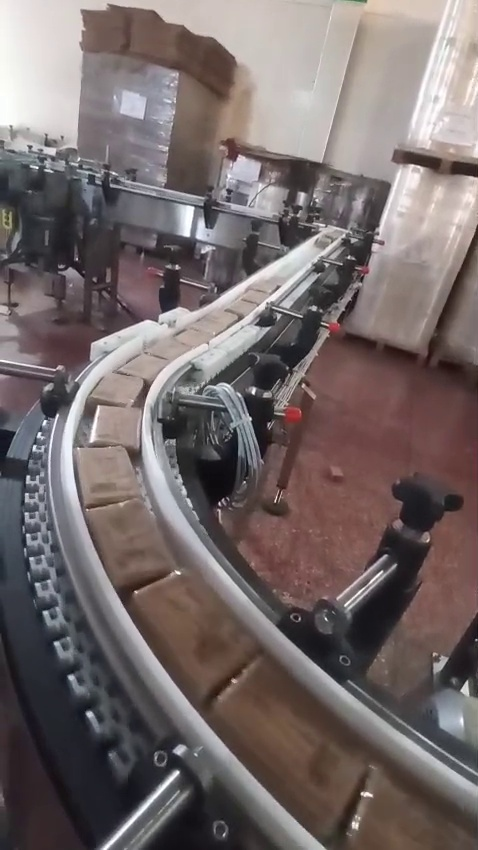savon: (149, 584, 477, 850), (177, 65, 254, 182), (90, 470, 140, 536), (368, 648, 422, 684), (451, 238, 478, 288), (133, 592, 154, 630), (164, 36, 184, 58), (0, 212, 16, 236), (362, 0, 378, 24), (258, 501, 284, 514), (456, 291, 465, 312)
